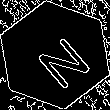N_NW: (21, 23, 89, 87)
